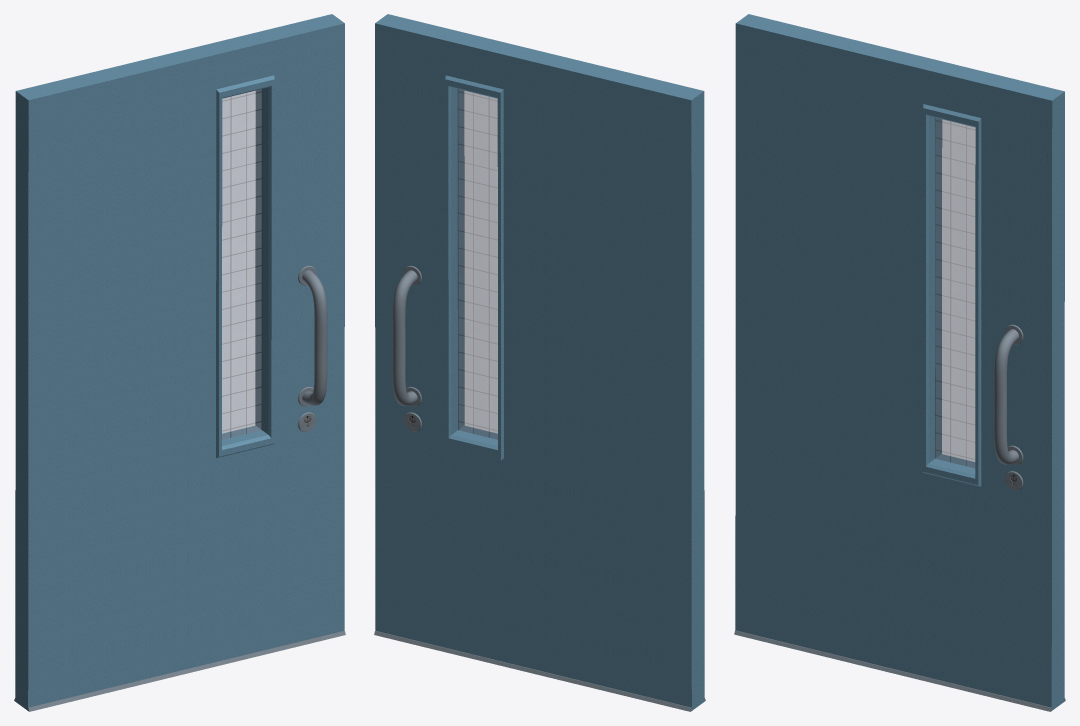
File: door.glb
3 renders of one model, left to right at view 1: azimuth 30°, elevation 25°; view 2: azimuth 150°, elevation 25°; view 3: azimuth 330°, elevation 25°, orthographic.
Parts seen in each view (by area): view 1: Circle; view 2: Circle; view 3: Circle.
Part boxes in pixels (x1,y1,x2,y2): Circle: (14,14,345,711); Circle: (374,14,705,711); Circle: (734,14,1065,711).
Bounding box in the file's own units: 2 × 3.69 × 0.5107.
Materials: 4 (4 with a texture image).
